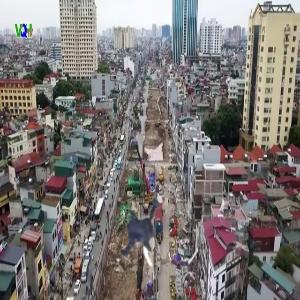drone: (98, 192, 188, 282)
